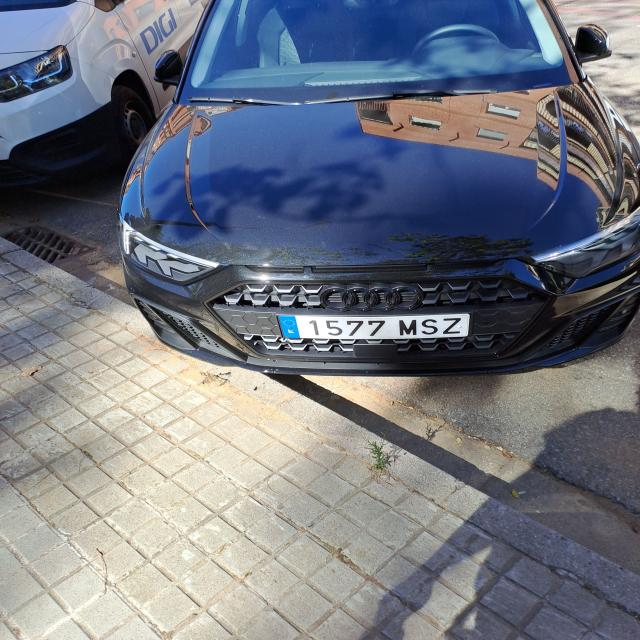license_plate-34Td: (277, 313, 470, 344)
